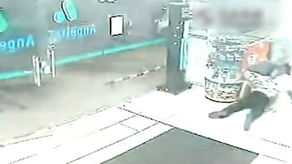fall: (205, 64, 291, 132)
